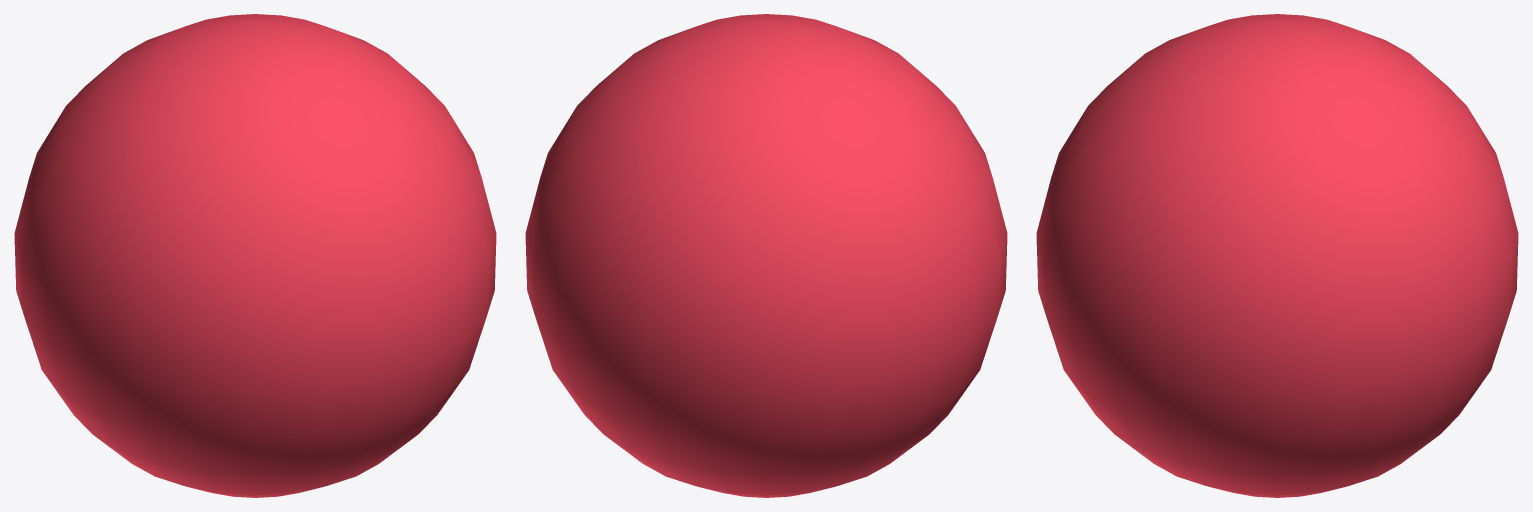
File: ball_red.glb
The picture shows the model from 3 angles, left to right: view 1: azimuth 30°, elevation 25°; view 2: azimuth 150°, elevation 25°; view 3: azimuth 270°, elevation 25°; orthographic projection.
Parts seen in each view (by area): view 1: ball_red; view 2: ball_red; view 3: ball_red.
Boxes of the visible parts, x1,y1,x2,y2 form: ball_red: [14, 14, 496, 497]; ball_red: [525, 14, 1007, 497]; ball_red: [1036, 14, 1518, 497].
Size of the model in its own units: 0.0699 by 0.0698 by 0.0699.
